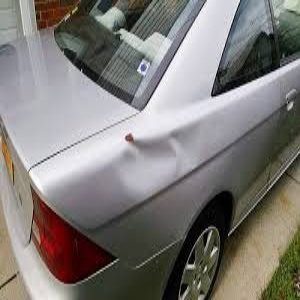bumper_scratch: (105, 122, 199, 200)
